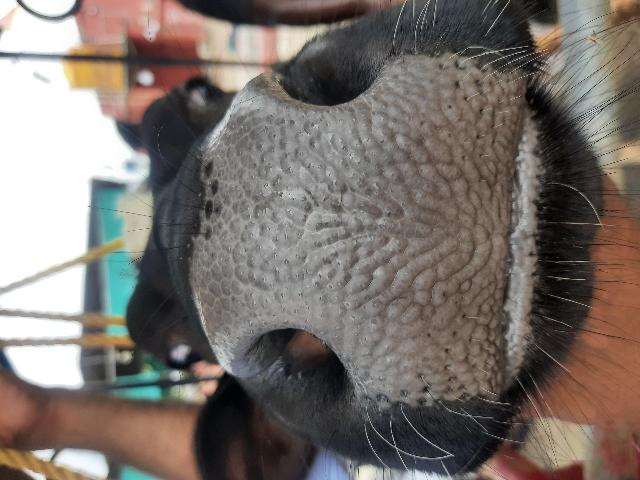Muzzle: (225, 119, 507, 331)
